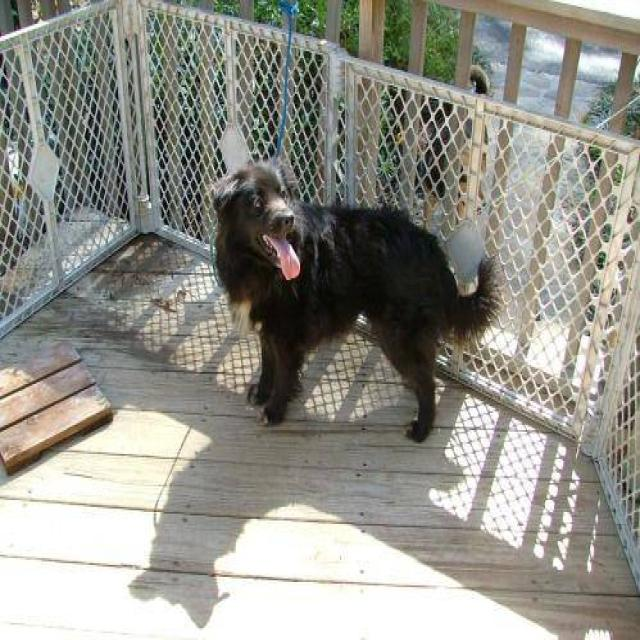dog: (209, 154, 502, 442)
